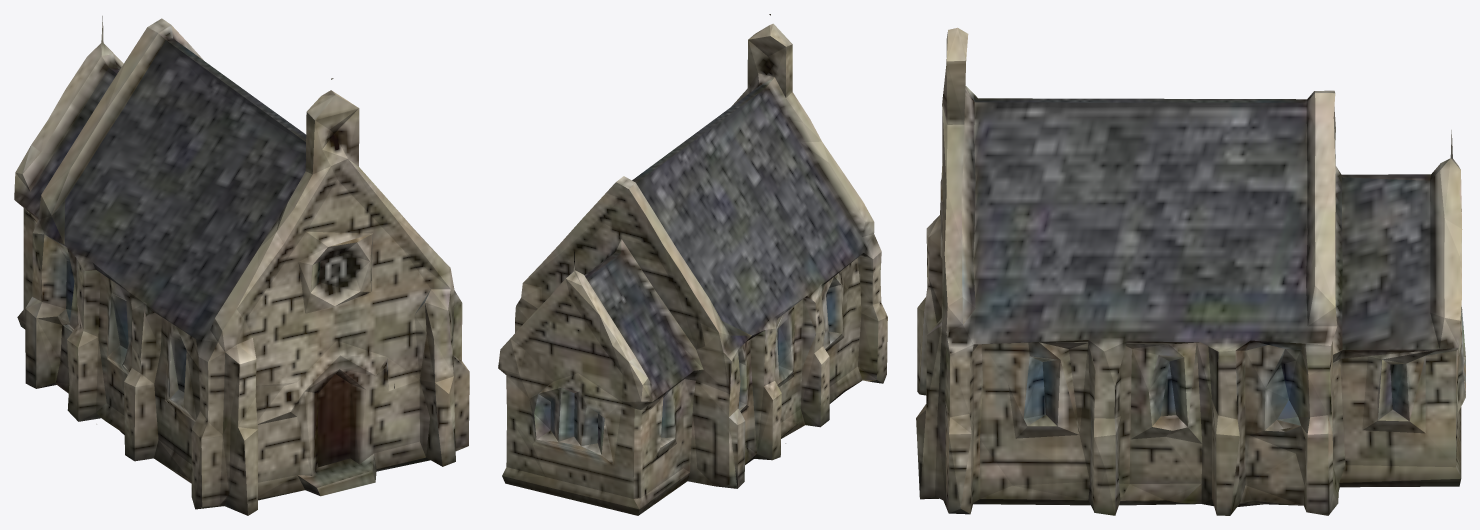
The model's file is chapel_lod2.glb.
3 renders of one model, left to right at view 1: azimuth 30°, elevation 25°; view 2: azimuth 150°, elevation 25°; view 3: azimuth 270°, elevation 25°, orthographic. The views are drawn at different scales.
Parts seen in each view (by area): view 1: lod; view 2: lod; view 3: lod.
Boxes of the visible parts, left/top/right/bottom form: lod: left=14, top=16, right=469, bottom=515; lod: left=498, top=14, right=887, bottom=515; lod: left=916, top=27, right=1465, bottom=515.
Bounding box in the file's own units: 8.36 × 11.8 × 13.61.
Materials: 1 (1 with a texture image).
